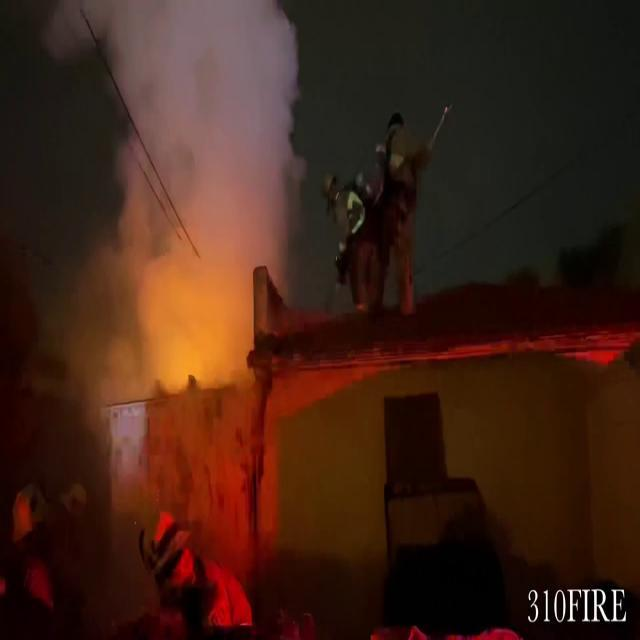Smoke: (39, 0, 314, 402)
